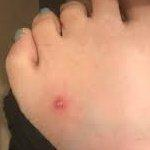Ants: (52, 94, 68, 111)
